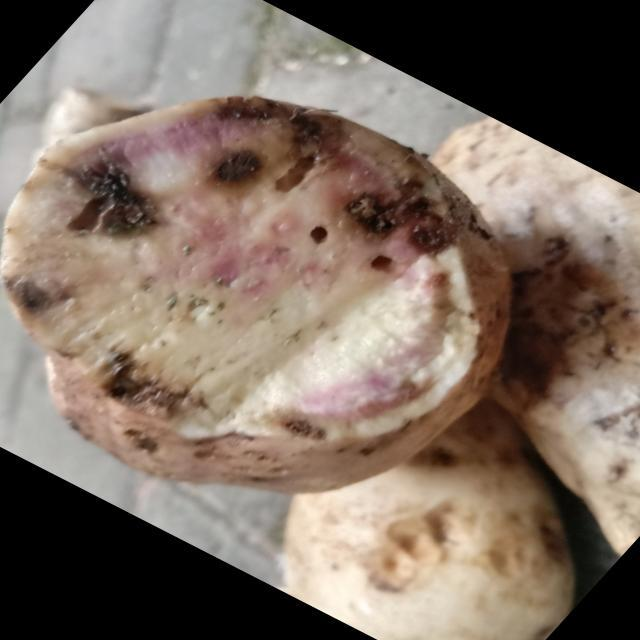Sick Sweet Potato_Tuber Rot: (3, 98, 508, 440)
